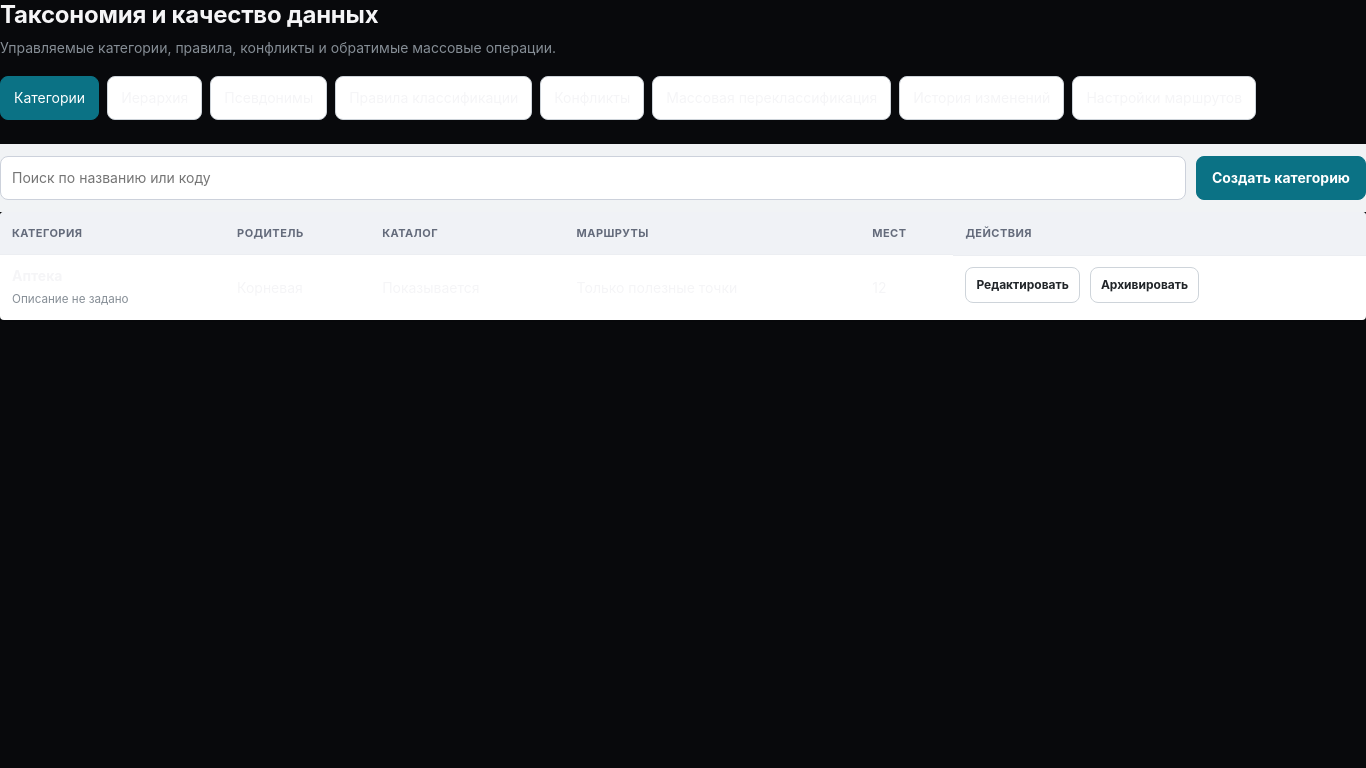
it: Taxonomy Manager › opens category creation dialog
The image size is (1366, 768).
What coordinates should you click on to do the following:
click the button "Создать категорию"
I would click on:
 (1281, 178)
Its box is [1196,156,1365,200].
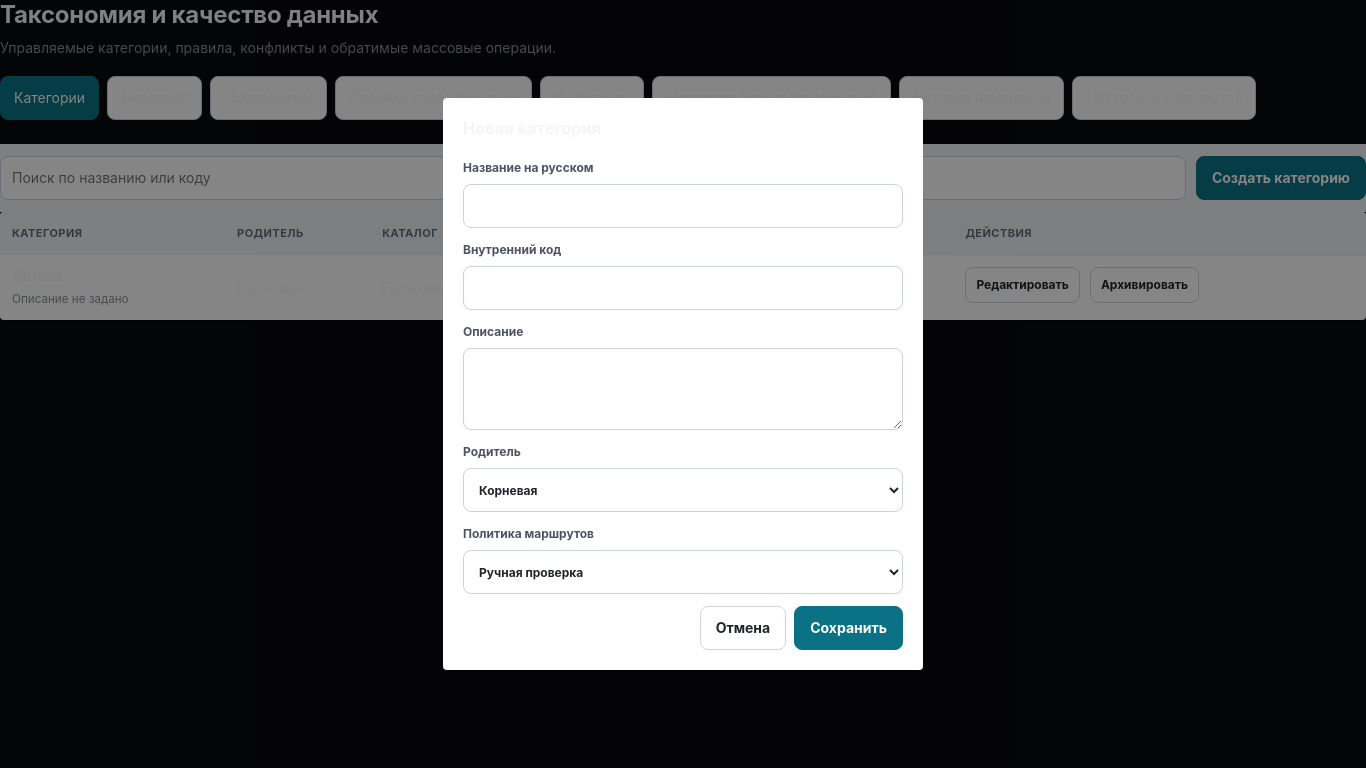
Check: the field labelled "Название на русском" is shown, box [463,184,903,228]
